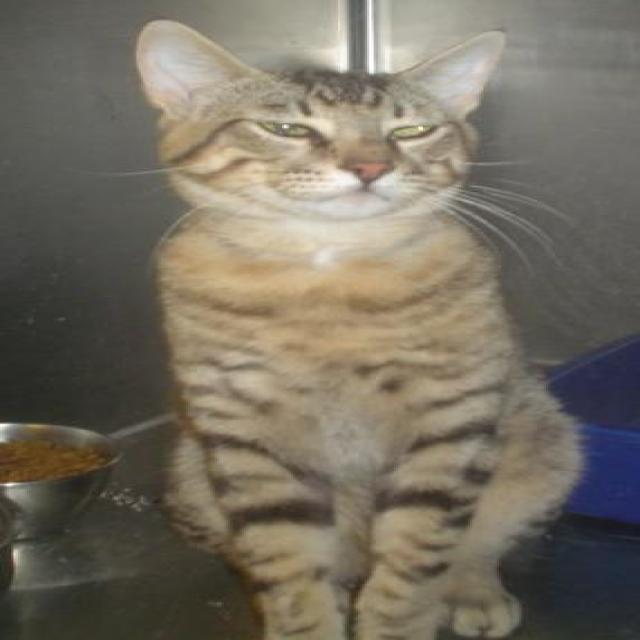Cats: (119, 18, 588, 639)
